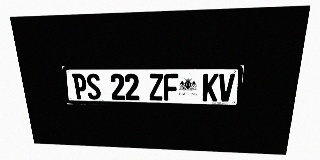2: (110, 74, 125, 100), (124, 74, 139, 100)
F: (164, 74, 178, 101)
K: (202, 74, 219, 101)
P: (72, 74, 88, 99)
S: (86, 74, 101, 99)
V: (218, 74, 235, 102)
Z: (149, 74, 163, 100)
